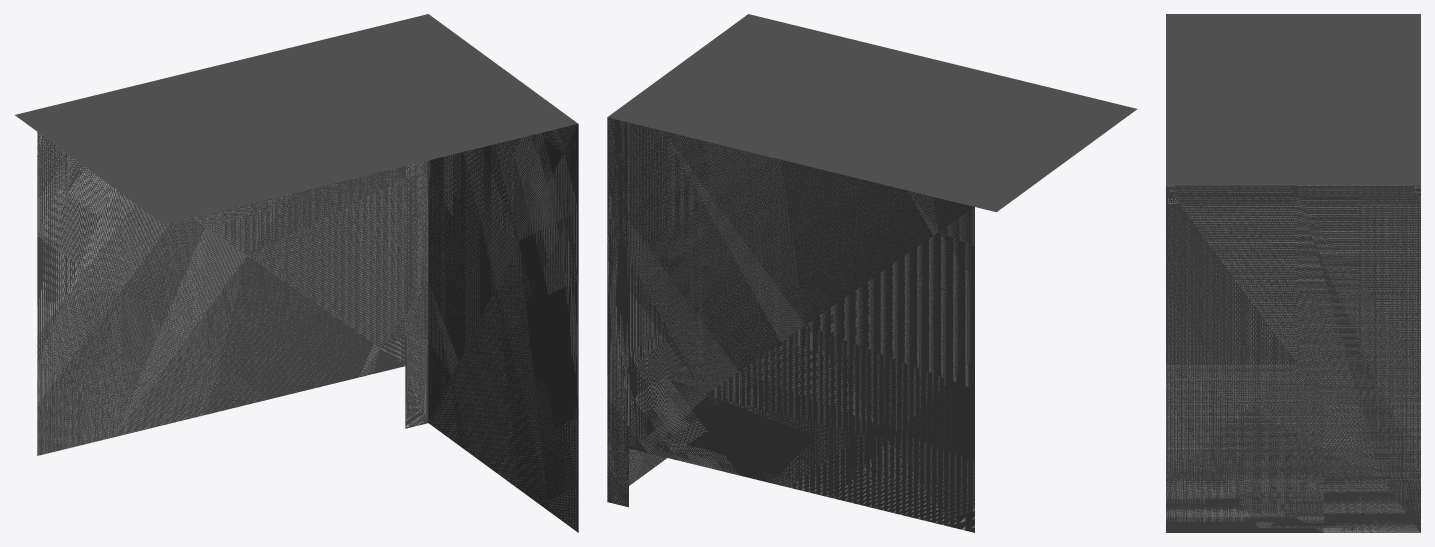
The model's file is original-37.obj.
3 renders of one model, left to right at view 1: azimuth 30°, elevation 25°; view 2: azimuth 150°, elevation 25°; view 3: azimuth 270°, elevation 25°, orthographic. The views are drawn at different scales.
Visible parts, largest first — view 1: mesh4/mesh4-geometry/material_0/component_1#mesh4-geometry; view 2: mesh4/mesh4-geometry/material_0/component_1#mesh4-geometry; view 3: mesh4/mesh4-geometry/material_0/component_1#mesh4-geometry.
Part boxes in pixels (box(x1,y1,x2,y2)): mesh4/mesh4-geometry/material_0/component_1#mesh4-geometry: box(15, 14, 578, 532); mesh4/mesh4-geometry/material_0/component_1#mesh4-geometry: box(607, 14, 1137, 532); mesh4/mesh4-geometry/material_0/component_1#mesh4-geometry: box(1166, 14, 1420, 532).
Size of the model in its own units: 1.23 by 1.16 by 0.773.
2 materials, 1 textured.
